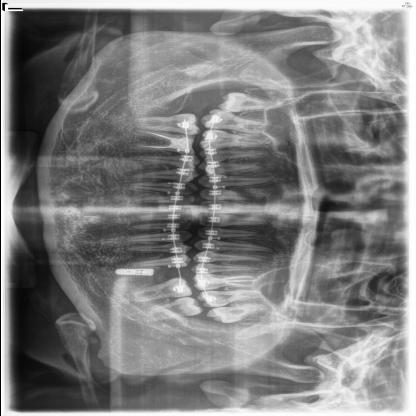ITI: (109, 266, 156, 278)
